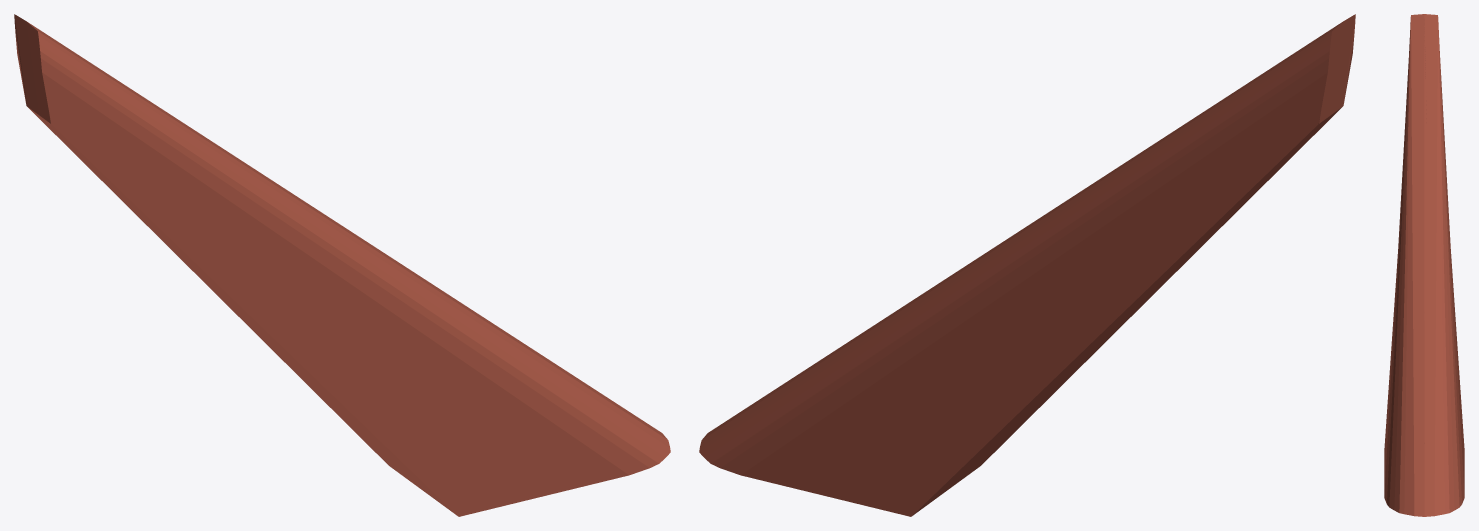
Rendered from StainedGlassRays.fbx.
3 views of the same model, side by side, from view 1: azimuth 30°, elevation 25°; view 2: azimuth 150°, elevation 25°; view 3: azimuth 270°, elevation 25° (orthographic). The views are drawn at different scales.
Visible parts, largest first — view 1: Cube; view 2: Cube; view 3: Cube.
Part boxes in pixels (<box>): Cube: <box>14,14,670,516</box>; Cube: <box>699,14,1355,516</box>; Cube: <box>1384,14,1464,516</box>.
Size of the model in its own units: 1248 by 1063 by 238.
